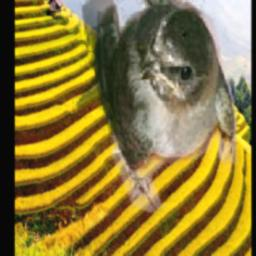Swallow: (72, 0, 237, 214)
